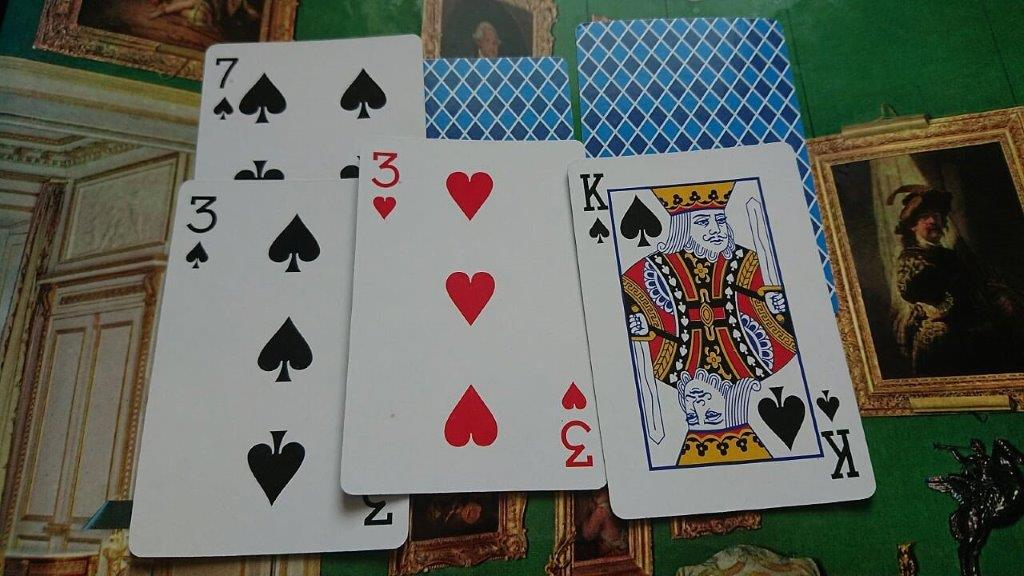3H: (366, 148, 402, 222)
3S: (181, 191, 221, 273)
7S: (209, 52, 241, 125)
BACK: (573, 12, 808, 140), (428, 54, 573, 136)
KS: (577, 170, 613, 248)
